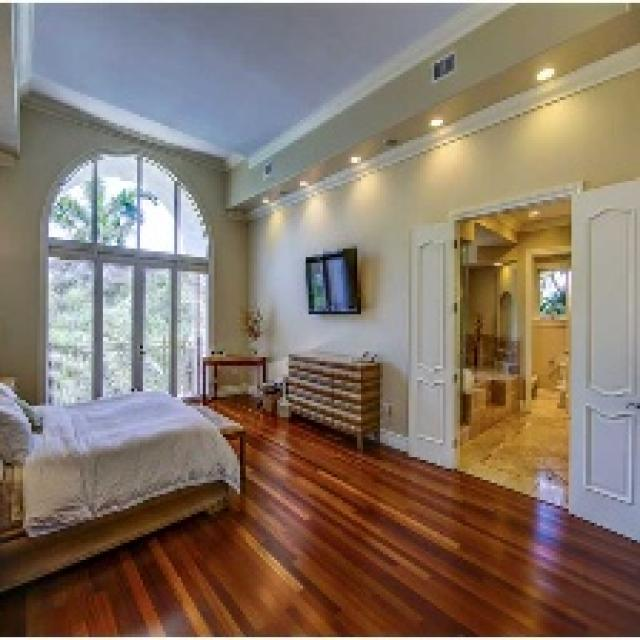Bed: (0, 374, 246, 614)
